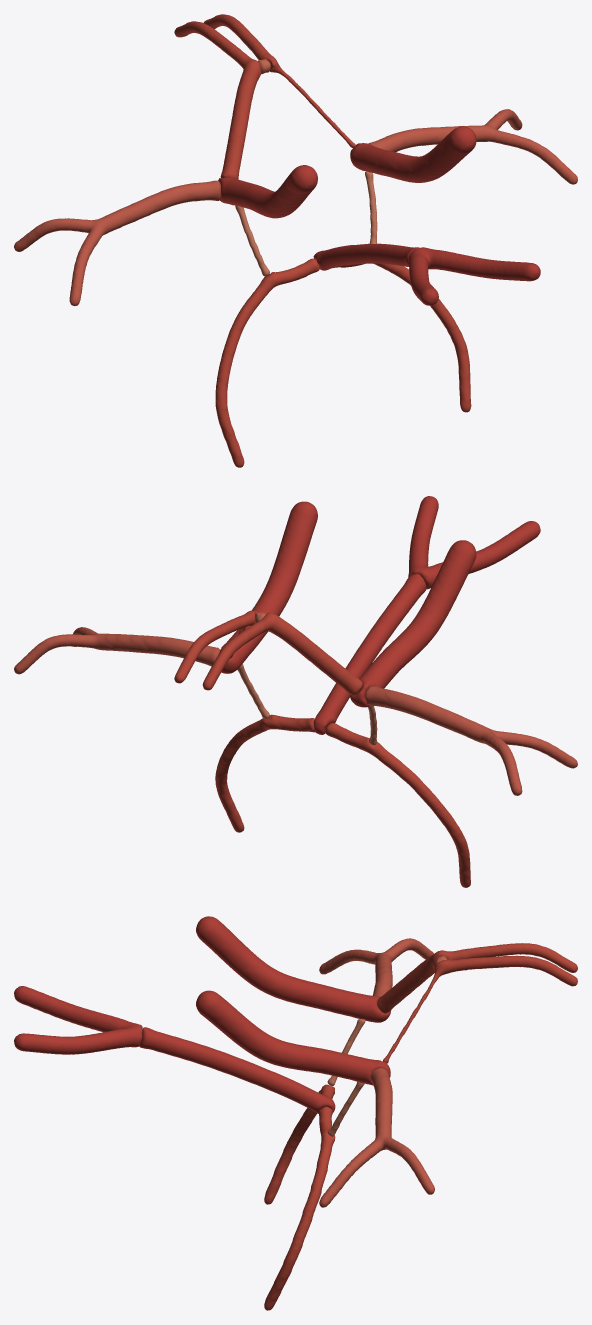
The model's file is willis_a1_hypoplasia.glb.
3 views of the same model, one above another, from view 1: azimuth 30°, elevation 25°; view 2: azimuth 150°, elevation 25°; view 3: azimuth 270°, elevation 25° (orthographic). The views are drawn at different scales.
Parts seen in each view (by area): view 1: middle_cerebrals, internal_carotids, posterior_cerebrals, anterior_cerebrals, vertebral_arteries, basilar_artery, posterior_communicatings; view 2: internal_carotids, middle_cerebrals, posterior_cerebrals, anterior_cerebrals, basilar_artery, vertebral_arteries, posterior_communicatings; view 3: internal_carotids, middle_cerebrals, anterior_cerebrals, vertebral_arteries, basilar_artery, posterior_cerebrals, posterior_communicatings.
Part boxes in pixels (<box>): middle_cerebrals: <box>14,109,577,306</box>; internal_carotids: <box>218,126,476,218</box>; posterior_cerebrals: <box>215,258,471,467</box>; anterior_cerebrals: <box>174,14,355,178</box>; vertebral_arteries: <box>408,247,540,305</box>; basilar_artery: <box>313,243,419,270</box>; posterior_communicatings: <box>235,171,377,276</box>; internal_carotids: <box>219,501,476,707</box>; middle_cerebrals: <box>14,627,577,795</box>; posterior_cerebrals: <box>215,714,470,887</box>; anterior_cerebrals: <box>174,610,362,695</box>; basilar_artery: <box>313,573,426,734</box>; vertebral_arteries: <box>408,496,540,589</box>; posterior_communicatings: <box>237,663,377,745</box>; internal_carotids: <box>196,916,391,1085</box>; middle_cerebrals: <box>319,938,434,1207</box>; anterior_cerebrals: <box>377,943,577,1063</box>; vertebral_arteries: <box>14,986,142,1054</box>; basilar_artery: <box>139,1027,335,1113</box>; posterior_cerebrals: <box>264,1084,335,1310</box>; posterior_communicatings: <box>327,1018,365,1136</box>.
Bounding box in the file's own units: 17.9 × 10.8 × 17.99.
